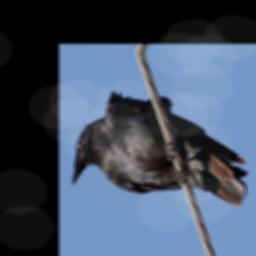Crow: (70, 85, 252, 210)
